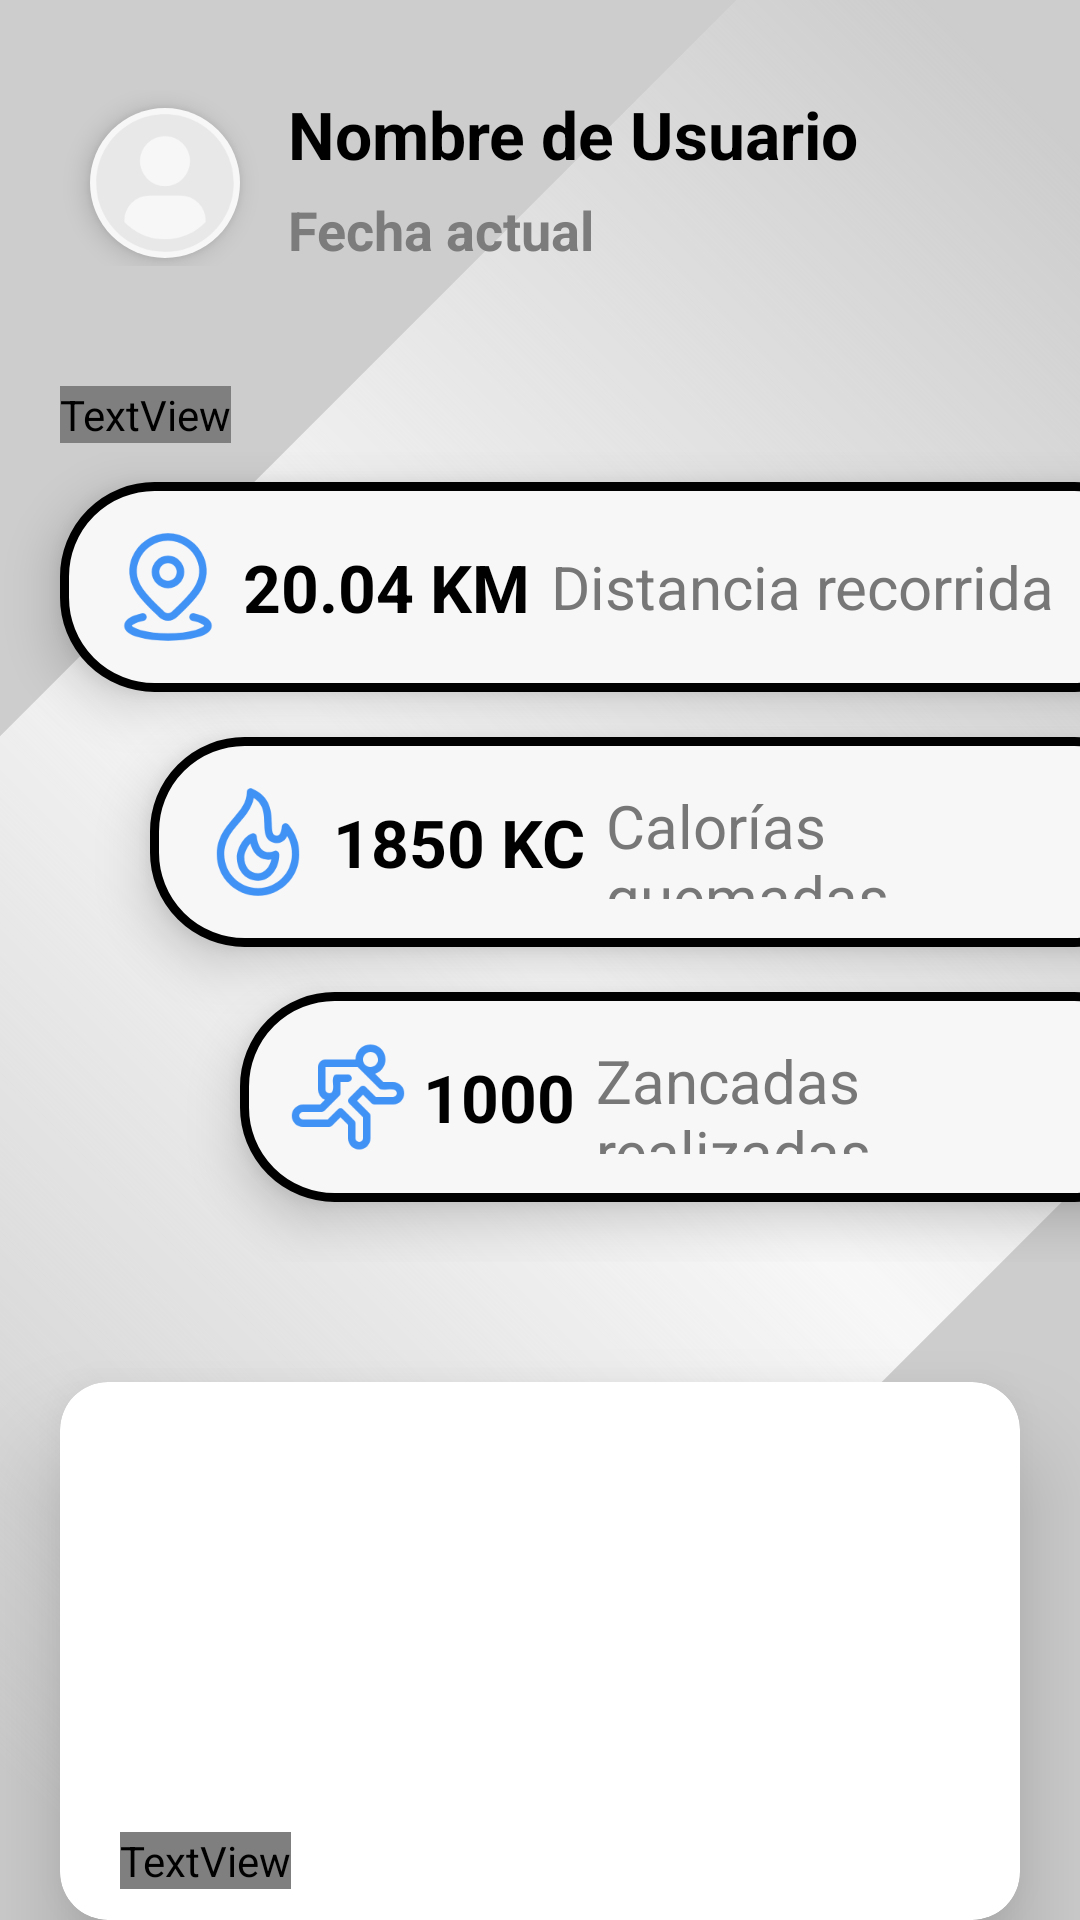

Icon bounding boxes for this 1080w x 1920h phone screenshot, format (x1, y1, x2, y2):
Icono de calorías: (216, 788, 300, 896)
Icono de kilómetros: (124, 533, 212, 641)
Icono de pasos: (291, 1044, 405, 1150)
